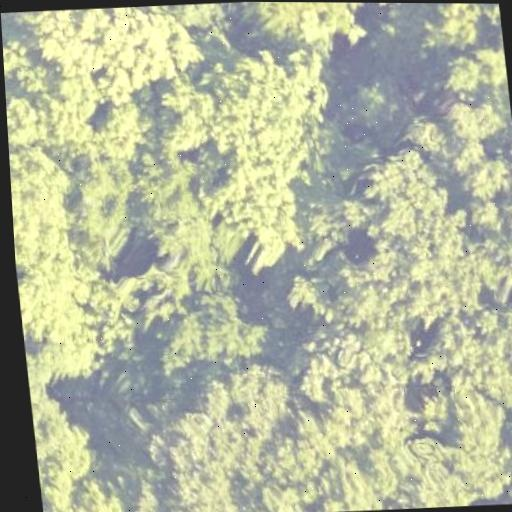tree-top: (281, 150, 461, 332), (282, 329, 432, 497), (130, 393, 286, 512), (206, 52, 323, 198), (15, 254, 108, 385), (132, 159, 236, 267), (93, 3, 212, 97), (61, 156, 147, 262), (30, 393, 106, 512), (162, 286, 275, 366), (434, 386, 512, 496), (77, 261, 186, 336), (9, 145, 77, 255), (239, 2, 378, 51), (29, 8, 114, 77), (80, 92, 157, 168), (154, 78, 218, 165), (454, 227, 512, 310), (345, 65, 413, 132), (476, 293, 512, 410), (433, 47, 498, 103), (450, 97, 512, 154), (418, 3, 490, 52), (50, 475, 135, 512), (457, 153, 512, 206), (5, 91, 51, 148), (403, 110, 450, 158), (415, 386, 456, 431), (169, 2, 230, 27), (258, 482, 307, 512), (469, 194, 506, 233), (507, 409, 512, 488), (504, 193, 512, 241)
